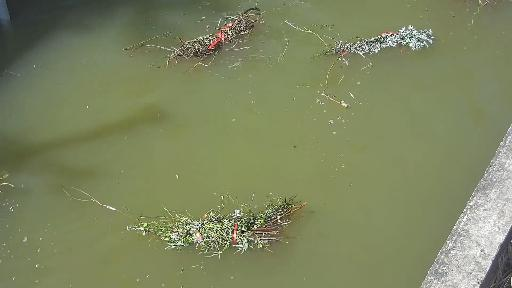twig: (263, 9, 464, 126), (73, 186, 325, 266), (100, 0, 269, 72)
